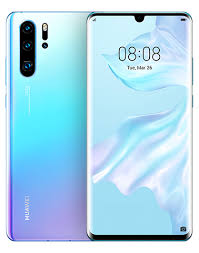huawei: (1, 7, 194, 242), (85, 8, 195, 242), (2, 8, 88, 239)
